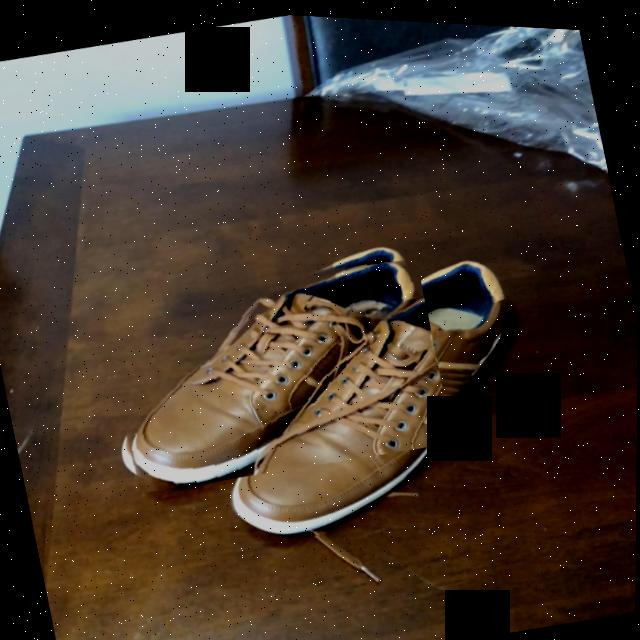shoe: (232, 259, 512, 536), (129, 256, 426, 485)
